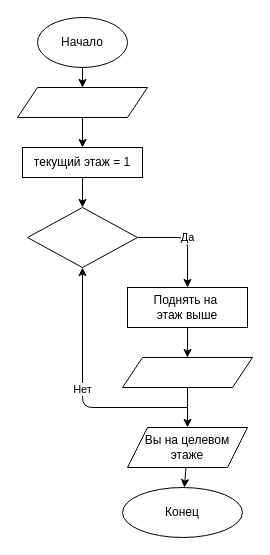
Some shapes in this 270 by 555 pixel diagram are drawn without their labels. Here are the shapes that lost their labels. From the top down, the centre of each, then its label:
At point 82,102: "Ввод; целевой этаж (N)".
At point 82,237: "текущий этаэ <N?".
At point 187,372: "текущий этаж = текущий этаж +1".
